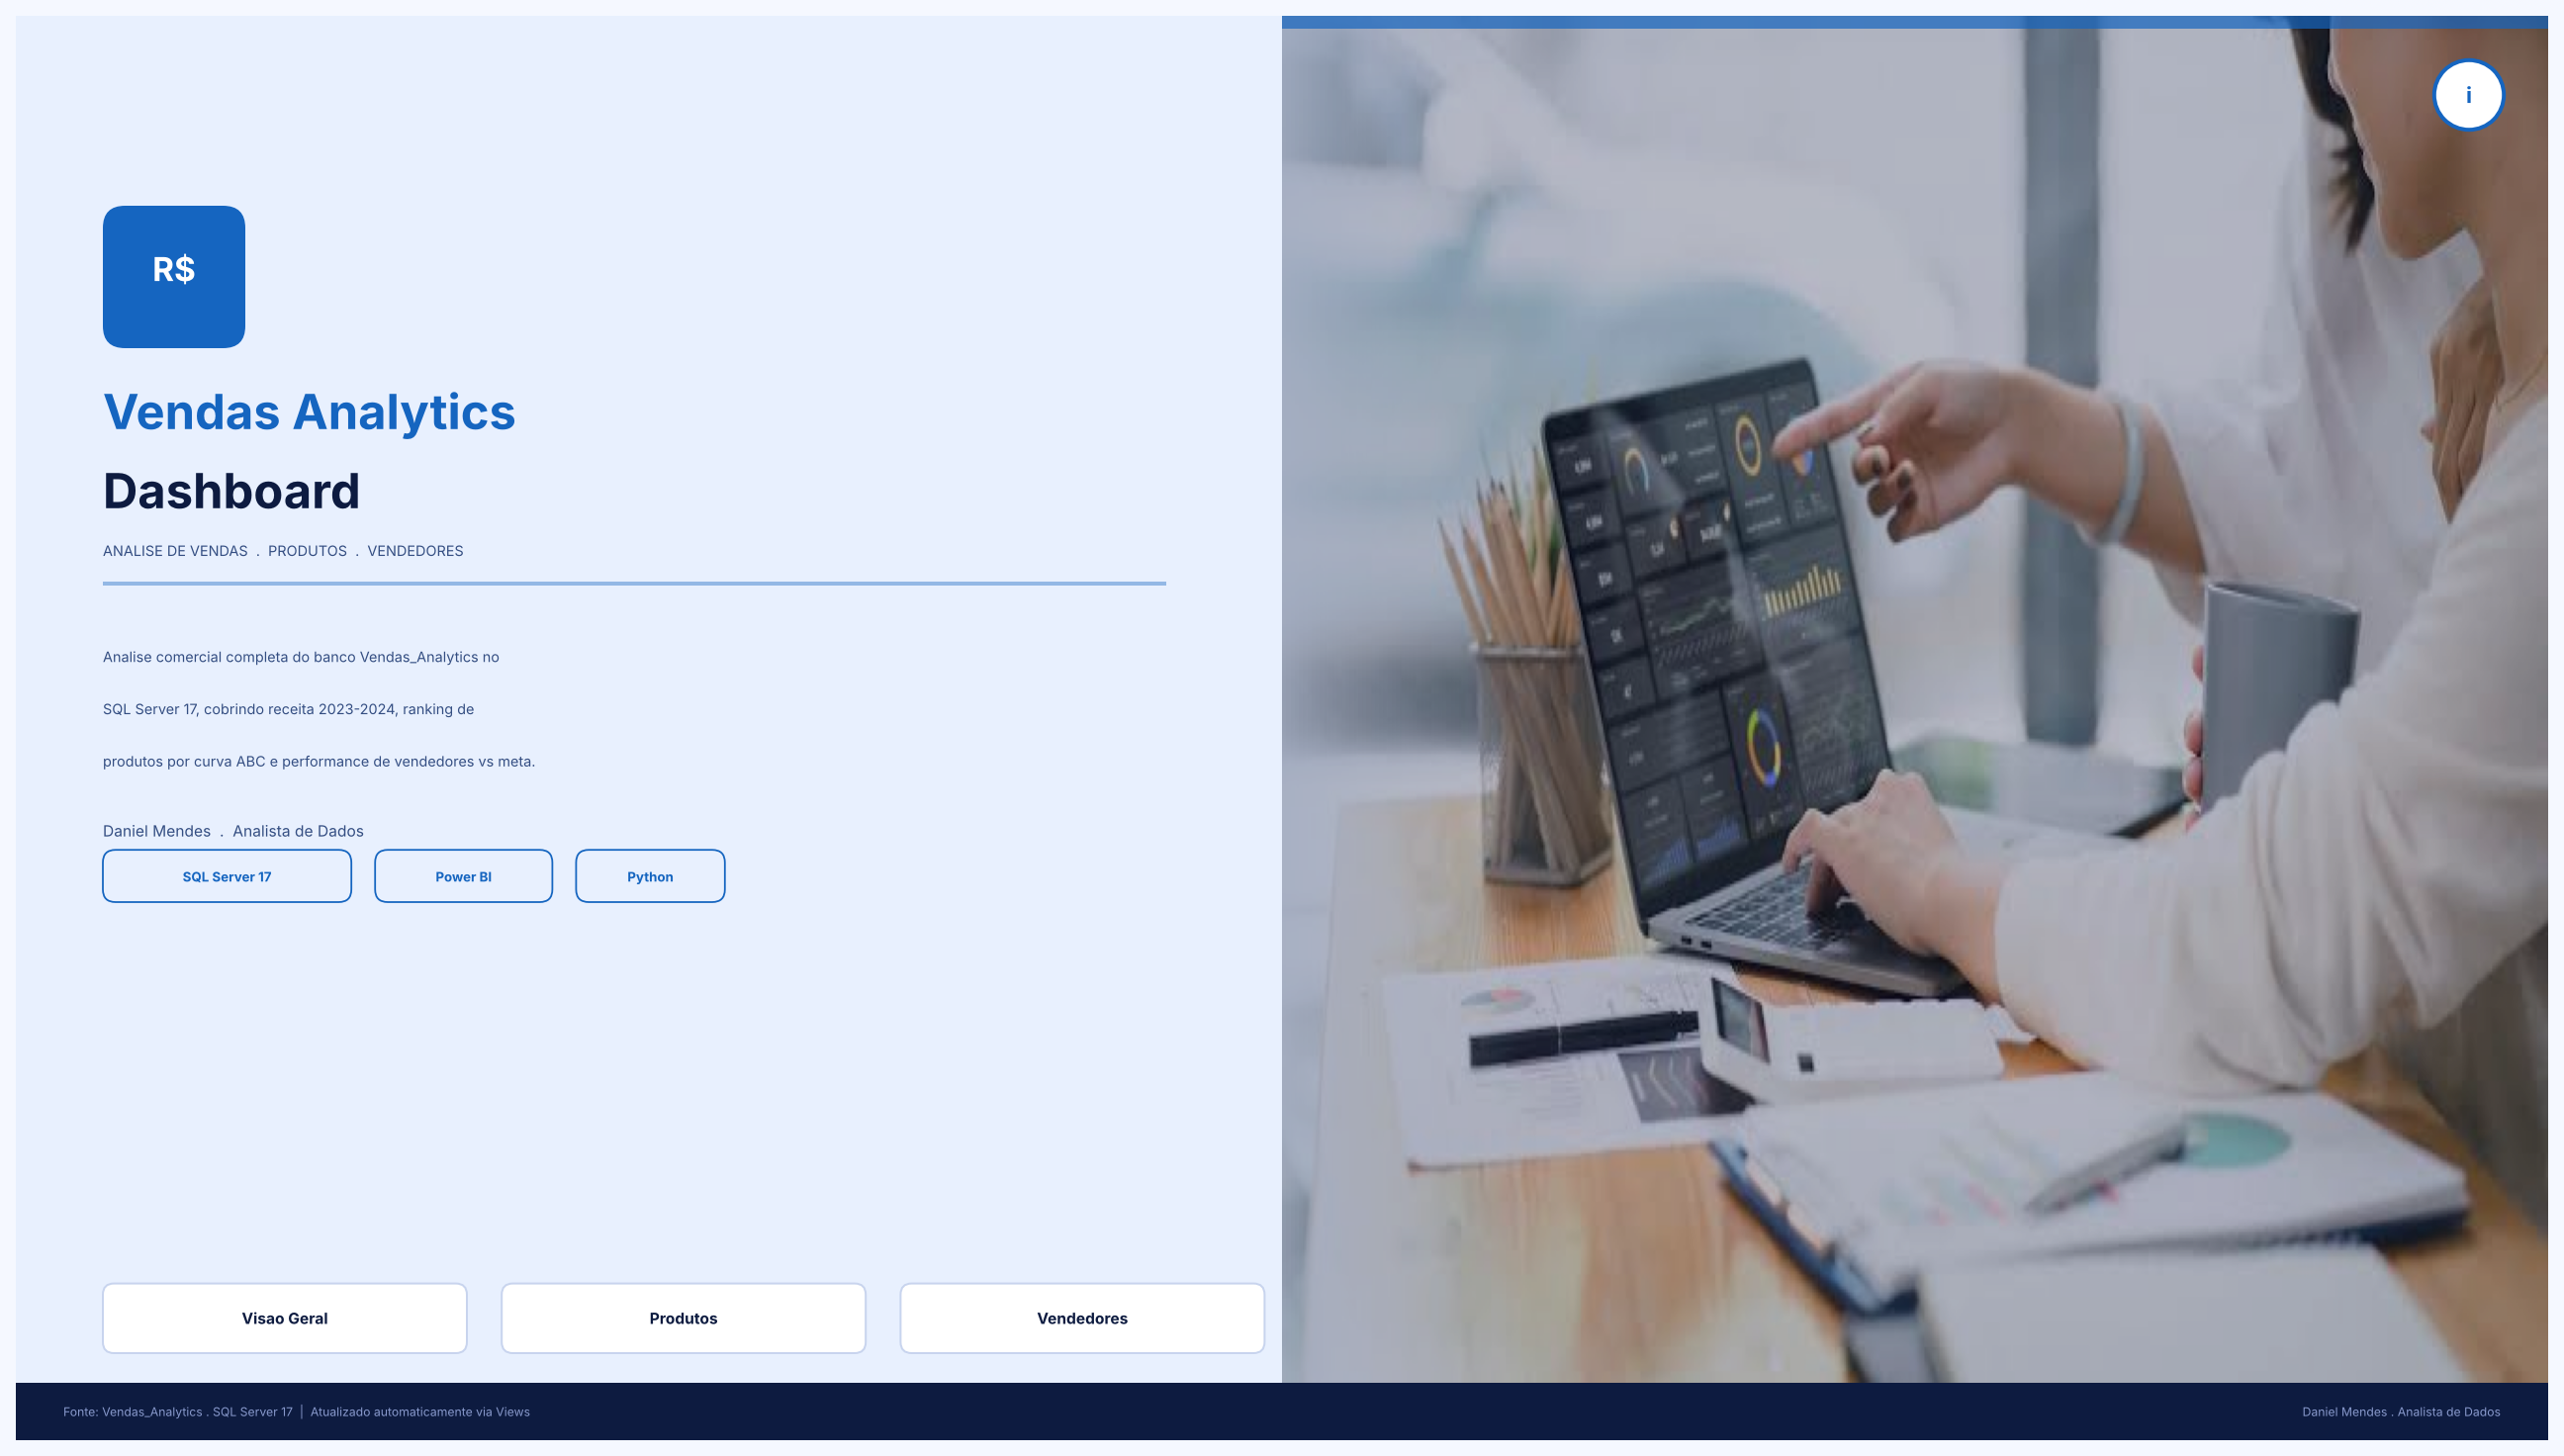

The page's visual inventory and layout, read from the dashboard file:
{"tool":"powerbi","page":{"name":"Início","canvas":[1920,1080],"ordinal":0},"visuals":[{"type":"actionButton","box":[81.4,954.7,261.8,46.2],"z":0},{"type":"actionButton","box":[369.6,954.7,275,46.2],"z":1000},{"type":"actionButton","box":[666.5,956.9,275,46.2],"z":2000},{"type":"shape","box":[1819.3,35.2,57.2,55],"z":3000}]}

Visuals, with their boxes in screenshot pixels (x1, y1, x2, y2), scaled from the page's 1920x1080 canvas onto the 2564x1456 screenshot:
actionButton: <region>109, 1287, 458, 1349</region>
actionButton: <region>494, 1287, 861, 1349</region>
actionButton: <region>890, 1290, 1257, 1352</region>
shape: <region>2429, 47, 2506, 122</region>
